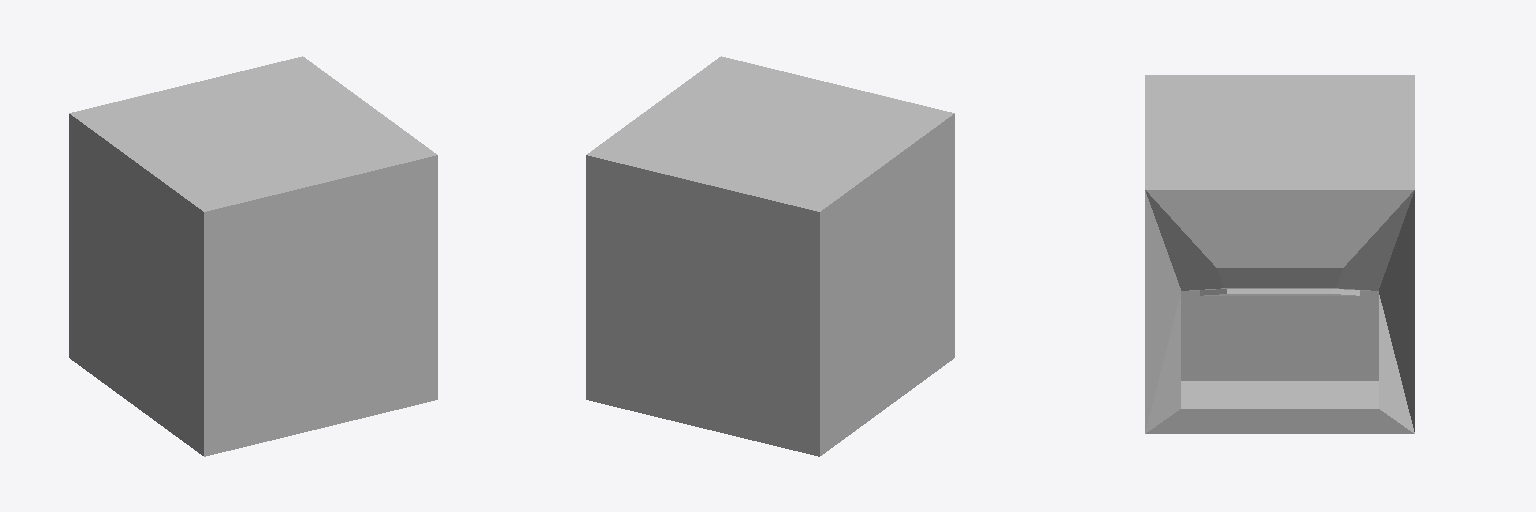
File: table.obj
3 renders of one model, left to right at view 1: azimuth 30°, elevation 25°; view 2: azimuth 150°, elevation 25°; view 3: azimuth 270°, elevation 25°, orthographic.
Parts seen in each view (by area): view 1: Cube_Cube.005; view 2: Cube_Cube.005; view 3: Cube_Cube.005.
Boxes of the visible parts, x1,y1,x2,y2 form: Cube_Cube.005: [69, 56, 437, 456]; Cube_Cube.005: [586, 56, 954, 456]; Cube_Cube.005: [1145, 75, 1414, 433].
Bounding box in the file's own units: 1.02 × 1 × 1.